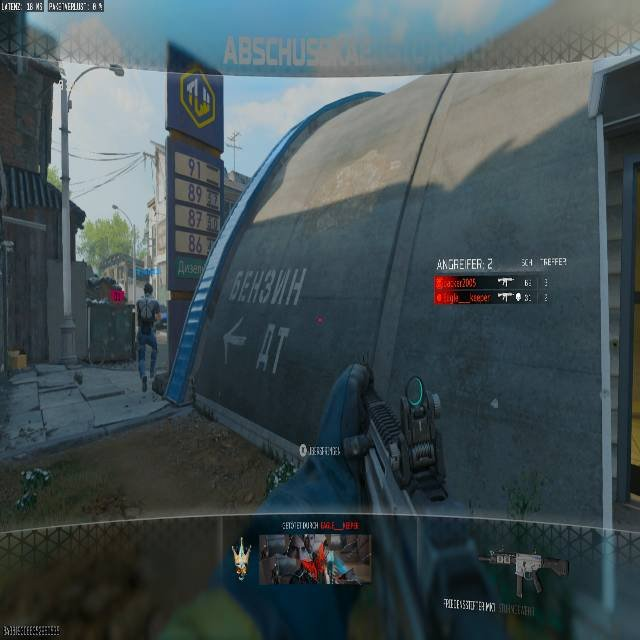head: (144, 284, 153, 296)
player: (230, 361, 449, 637), (132, 284, 165, 392)
